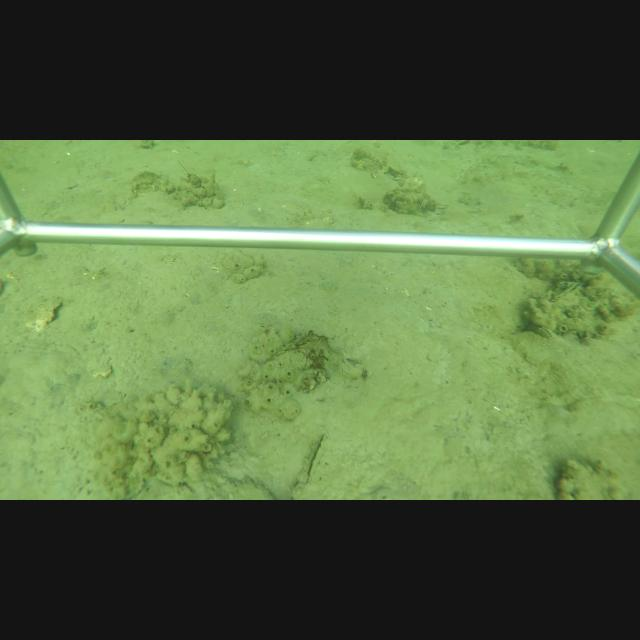Oyster-Closed: (291, 430, 330, 500), (547, 282, 585, 304)
